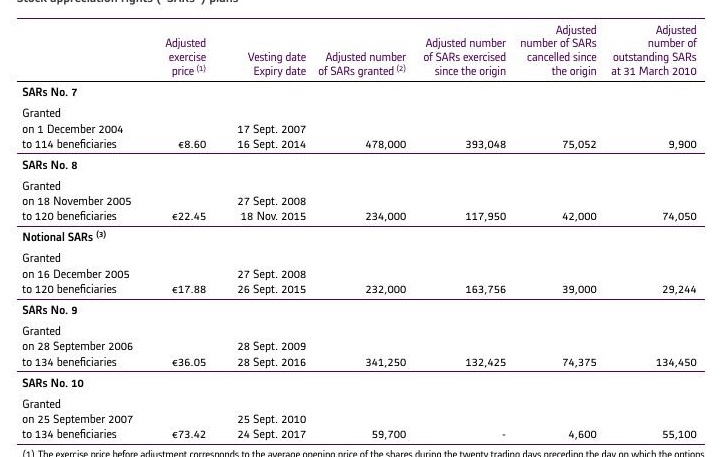table: (0, 0, 723, 457)
